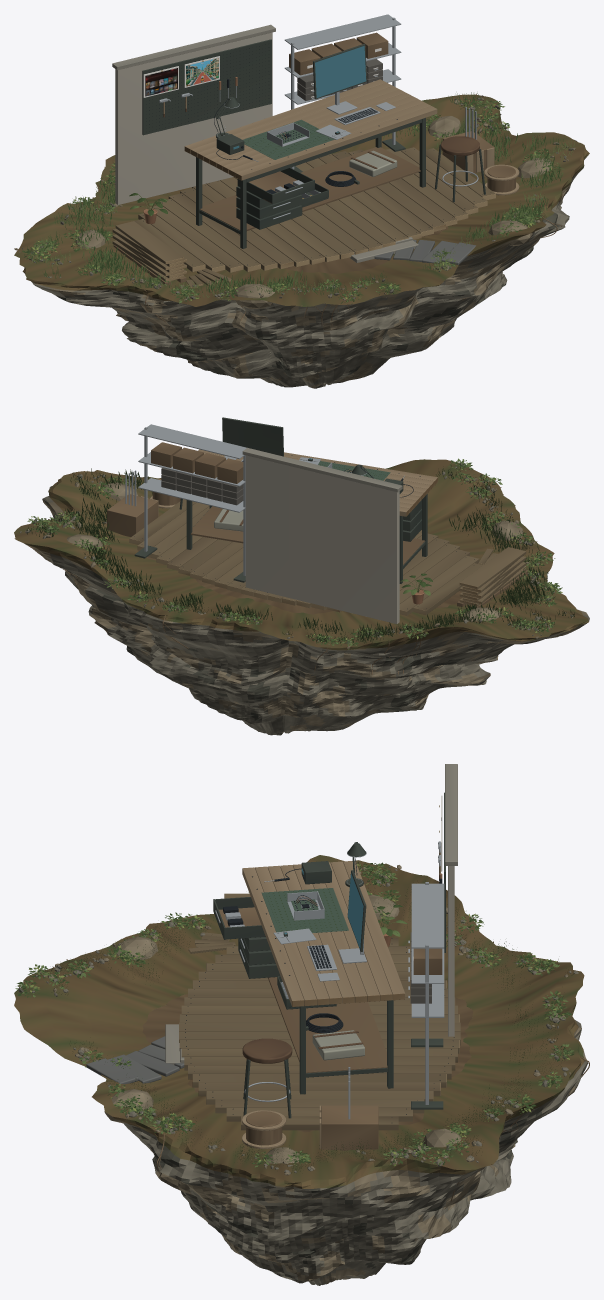
File: orbit-projects-c74b10db.glb
The picture shows the model from 3 angles, top to bottom: view 1: azimuth 30°, elevation 25°; view 2: azimuth 150°, elevation 25°; view 3: azimuth 270°, elevation 25°; orthographic projection. The views are drawn at different scales.
Visible parts, largest first — view 1: Projects island · baked lighting, Project print · Taipei Run, Project print · TaipeiFlix; view 2: Projects island · baked lighting; view 3: Projects island · baked lighting.
Part boxes in pixels (box(x1,y1,x2,y2)): Projects island · baked lighting: box(14, 14, 589, 388); Project print · Taipei Run: box(186, 58, 218, 86); Project print · TaipeiFlix: box(145, 68, 177, 96); Projects island · baked lighting: box(14, 417, 589, 735); Projects island · baked lighting: box(14, 764, 589, 1285).
Bounding box in the file's own units: 11.97 × 6.77 × 8.58.
31 materials, 2 textured.
